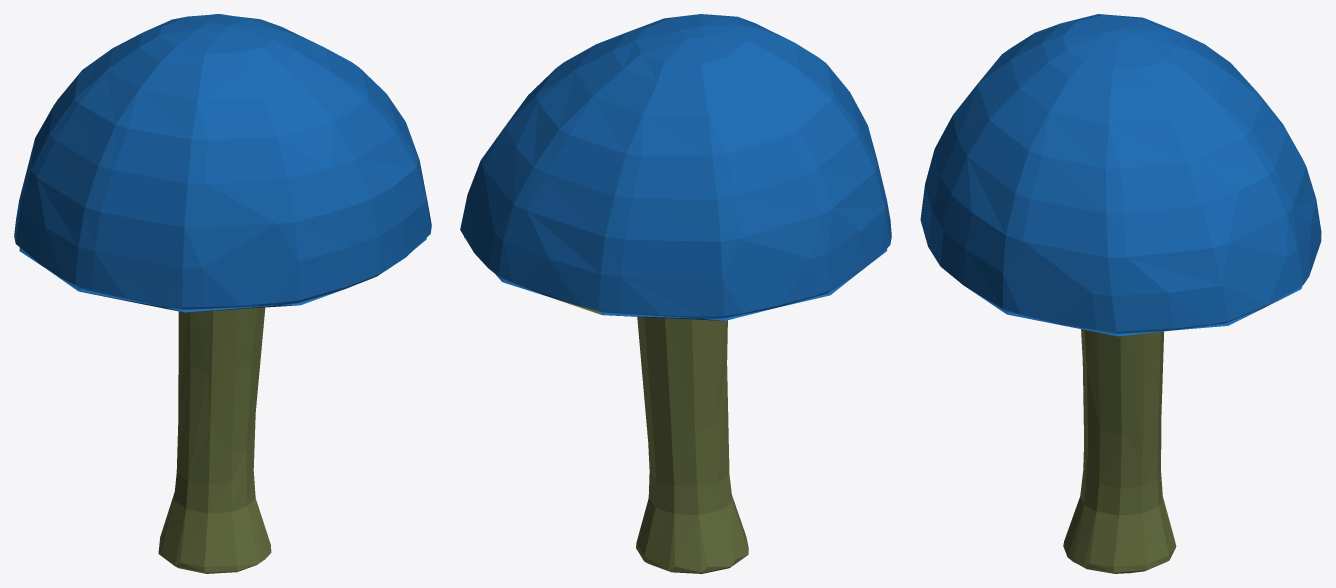
File: SM_Mushroom_V1.FBX
The picture shows the model from 3 angles, left to right: view 1: azimuth 30°, elevation 25°; view 2: azimuth 150°, elevation 25°; view 3: azimuth 270°, elevation 25°; orthographic projection.
Parts seen in each view (by area): view 1: Mushroom_1; view 2: Mushroom_1; view 3: Mushroom_1.
Boxes of the visible parts, <box> form: Mushroom_1: <box>14,14,431,573</box>; Mushroom_1: <box>460,14,891,573</box>; Mushroom_1: <box>920,14,1321,573</box>.
Size of the model in its own units: 47.65 by 63.99 by 44.91.
